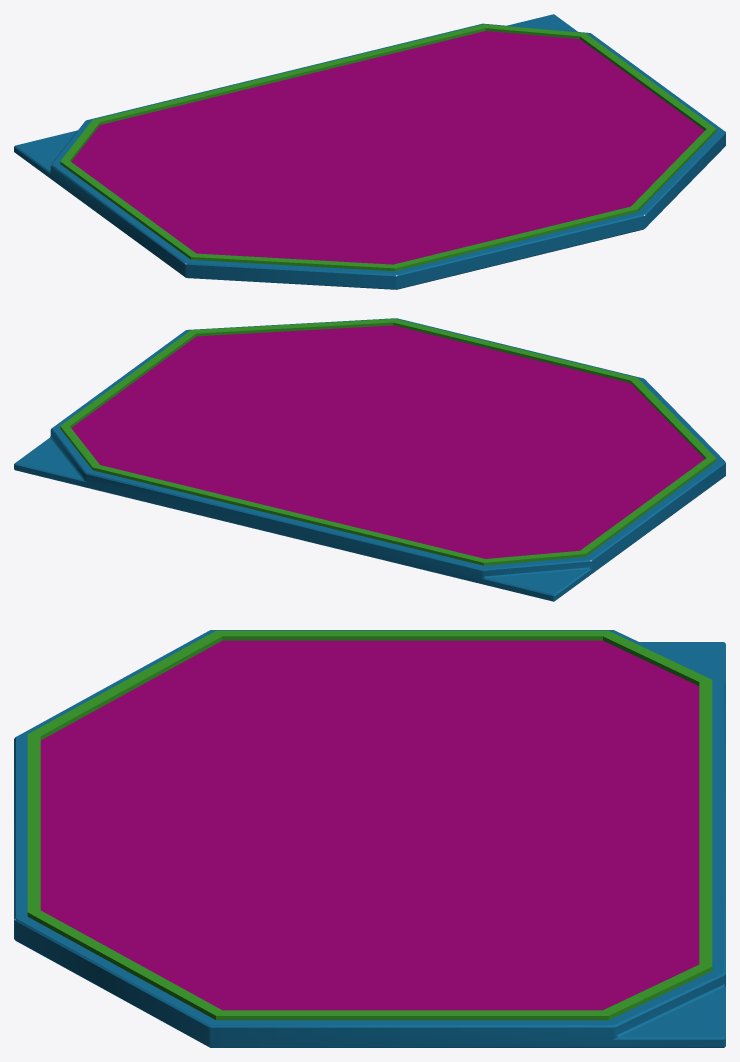
Rendered from Bridge_AI_Floor.fbx.
3 views of the same model, one above another, from view 1: azimuth 30°, elevation 25°; view 2: azimuth 150°, elevation 25°; view 3: azimuth 270°, elevation 25° (orthographic). The views are drawn at different scales.
Parts seen in each view (by area): view 1: Ramp_Mid_Top; view 2: Ramp_Mid_Top; view 3: Ramp_Mid_Top.
Boxes of the visible parts, left/top/right/bottom form: Ramp_Mid_Top: left=14, top=14, right=725, bottom=289; Ramp_Mid_Top: left=14, top=318, right=725, bottom=601; Ramp_Mid_Top: left=14, top=630, right=725, bottom=1047.
Size of the model in its own units: 512 by 16.27 by 388.
